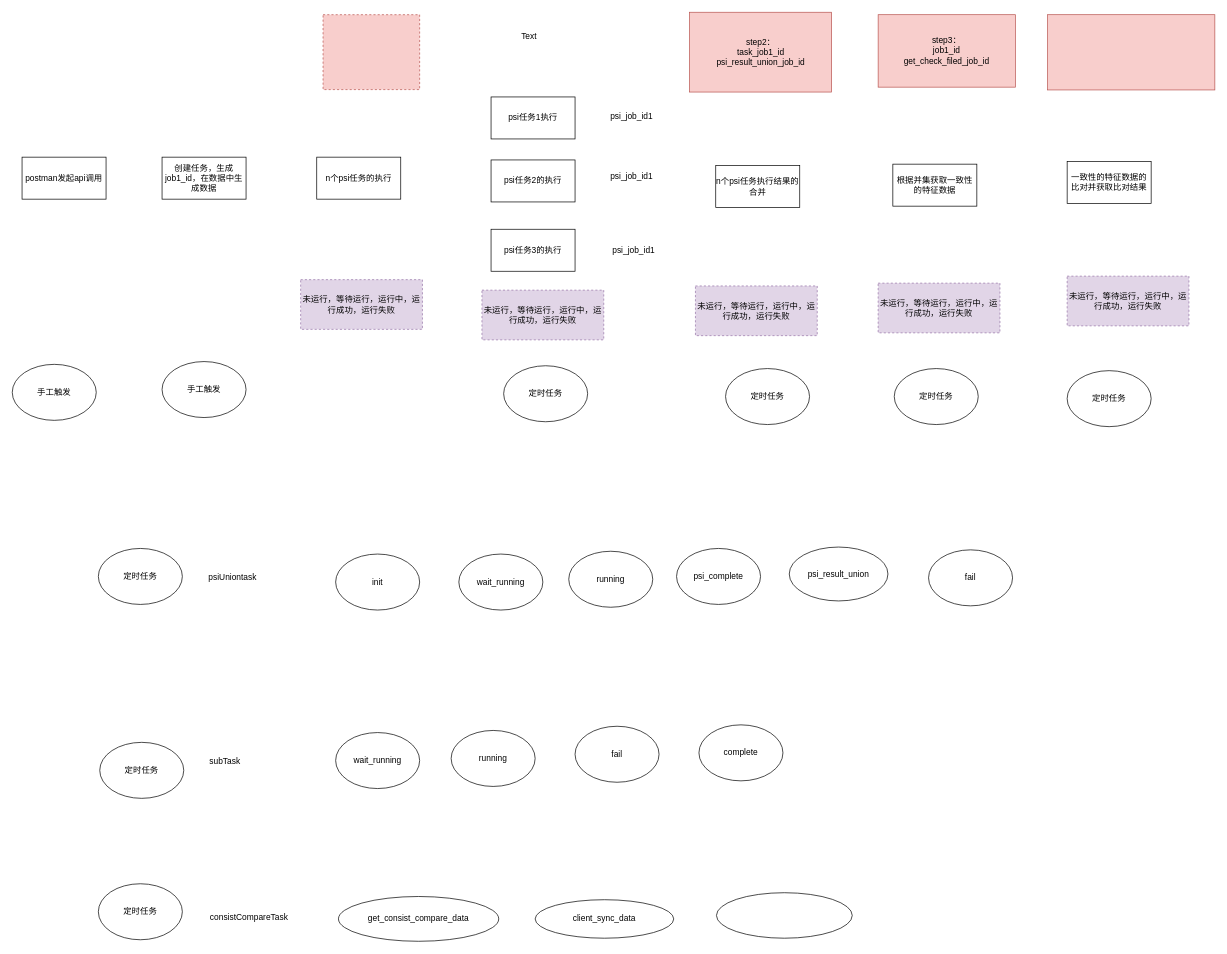
The diagram is 1227 pixels wide and 954 high, and some of its shapes have lost their labels. Each missing label, with the centre of its shape:
"consisten_copare" goes at (x=784, y=915).
"step1： task_job1_id muplti_psi_job_id" goes at (x=371, y=52).
"step4： job1_id consistency_compare_job_id" goes at (x=1131, y=52).
